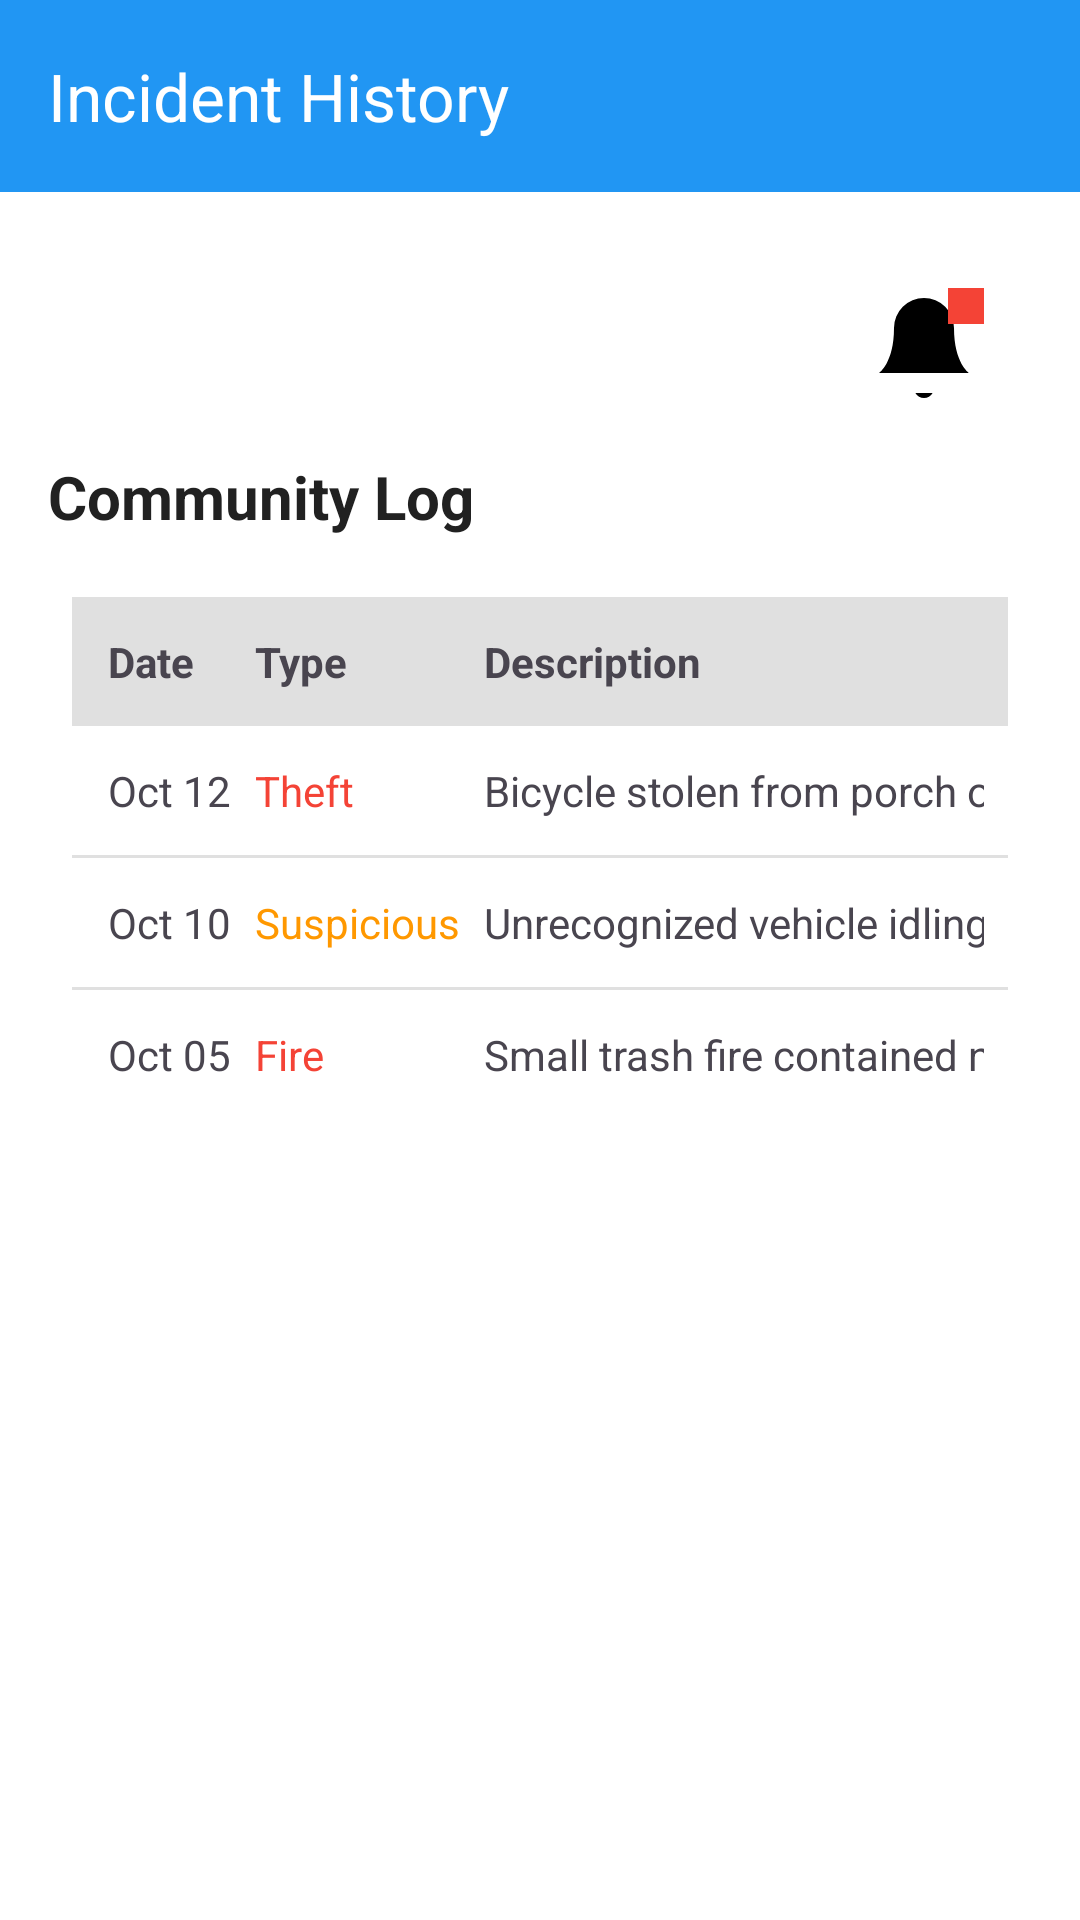

Icons on this 1080*1920 Android screen, each with the point to tap as (x=x, y=y):
Notification Alerts: (x=931, y=343)
